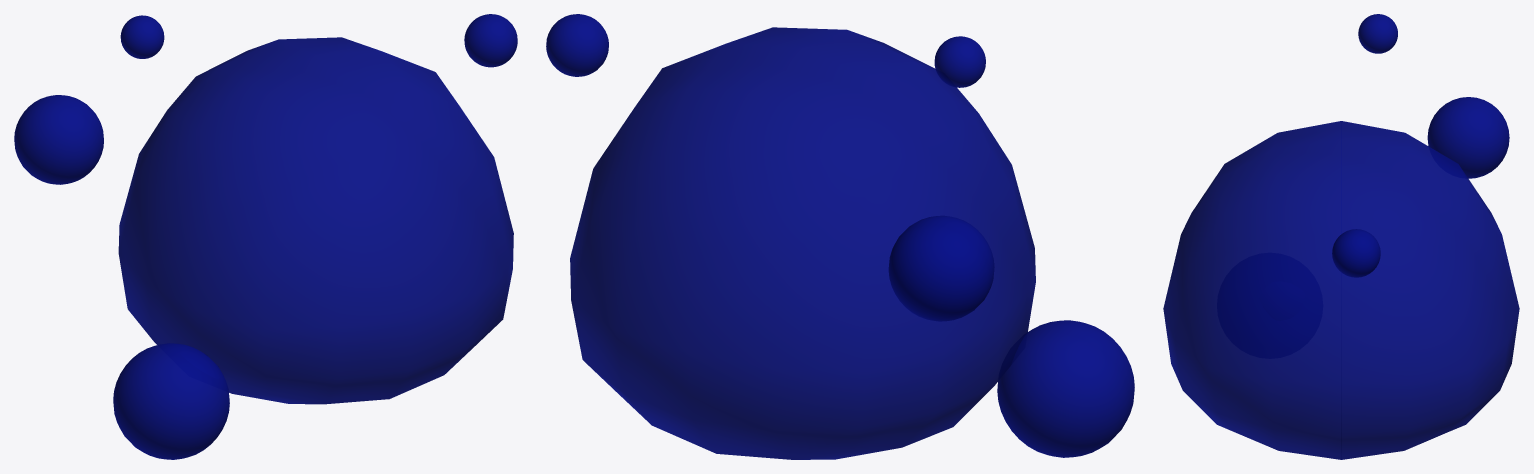
File: M_P_slime.FBX
3 views of the same model, side by side, from view 1: azimuth 30°, elevation 25°; view 2: azimuth 150°, elevation 25°; view 3: azimuth 270°, elevation 25° (orthographic). The views are drawn at different scales.
Parts seen in each view (by area): view 1: Box074, Sphere057, Sphere054, Sphere055, Sphere056; view 2: Box074, Sphere057, Sphere054, Sphere055, Sphere056; view 3: Box074, Sphere054, Sphere055, Sphere057, Sphere056.
Boxes of the visible parts, box(x1,y1,x2,y2) form: Box074: box(118, 37, 513, 404); Sphere057: box(113, 343, 229, 459); Sphere054: box(14, 95, 103, 184); Sphere055: box(464, 14, 517, 67); Sphere056: box(120, 15, 164, 58); Box074: box(570, 27, 1035, 459); Sphere057: box(997, 320, 1134, 457); Sphere054: box(888, 215, 994, 321); Sphere055: box(546, 14, 608, 76); Sphere056: box(934, 36, 985, 87); Box074: box(1163, 121, 1519, 459); Sphere054: box(1427, 97, 1509, 178); Sphere055: box(1332, 229, 1380, 277); Sphere057: box(1259, 282, 1304, 320); Sphere056: box(1358, 14, 1397, 53).
Size of the model in its own units: 154 by 129 by 119.
